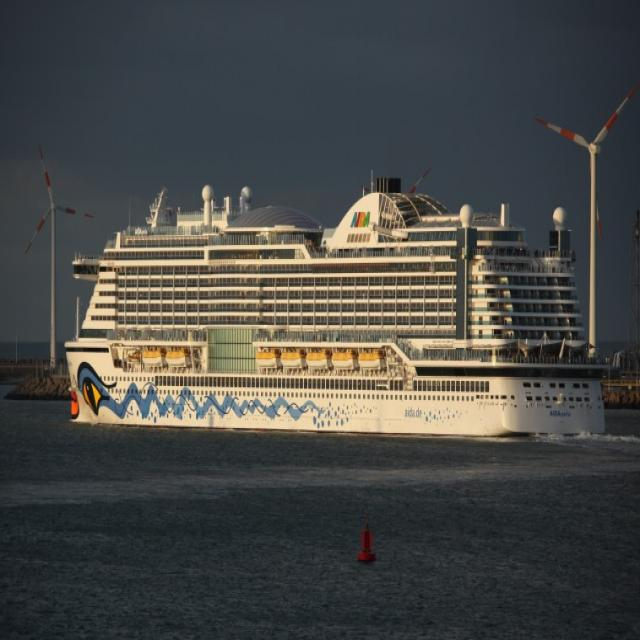cruises: (65, 175, 622, 447)
